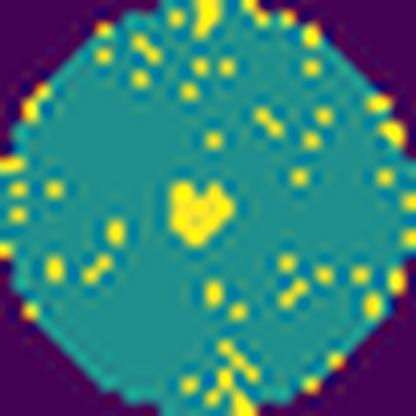Center: (168, 178, 239, 250)
